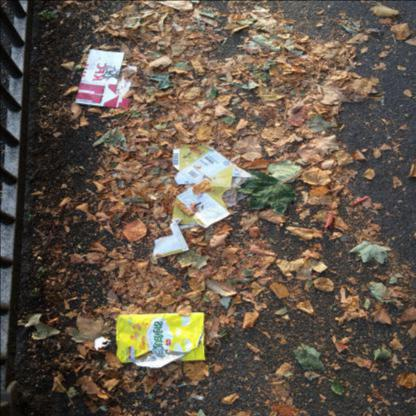Carton: (152, 144, 253, 259), (76, 49, 137, 108)
Cigarette: (191, 394, 203, 400), (201, 78, 209, 87)
Plastic bag - wrapper: (115, 312, 205, 367), (222, 176, 255, 205)
Unlabeled litter: (95, 336, 111, 350)
